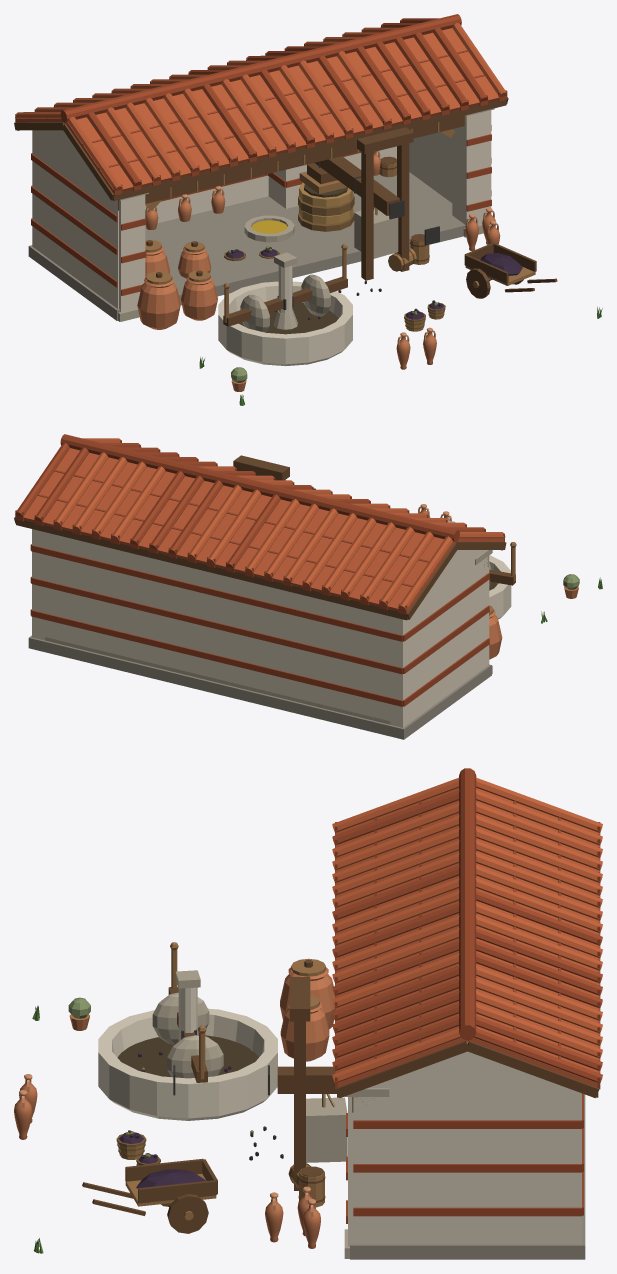
The model's file is Oelpresse.fbx.
3 views of the same model, one above another, from view 1: azimuth 30°, elevation 25°; view 2: azimuth 150°, elevation 25°; view 3: azimuth 270°, elevation 25° (orthographic). The views are drawn at different scales.
Parts seen in each view (by area): view 1: Oelpresse_0; view 2: Oelpresse_0; view 3: Oelpresse_0.
Boxes of the visible parts, box(x1,y1,x2,y2) form: Oelpresse_0: box(14, 14, 602, 405); Oelpresse_0: box(14, 434, 602, 739); Oelpresse_0: box(14, 768, 602, 1259).
Size of the model in its own units: 3.55 by 1.55 by 3.43.
